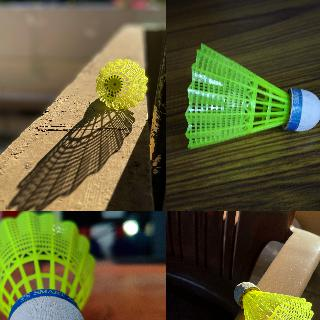shuttlecock: (185, 43, 319, 149), (0, 211, 94, 319), (233, 281, 313, 319), (96, 59, 146, 109)
